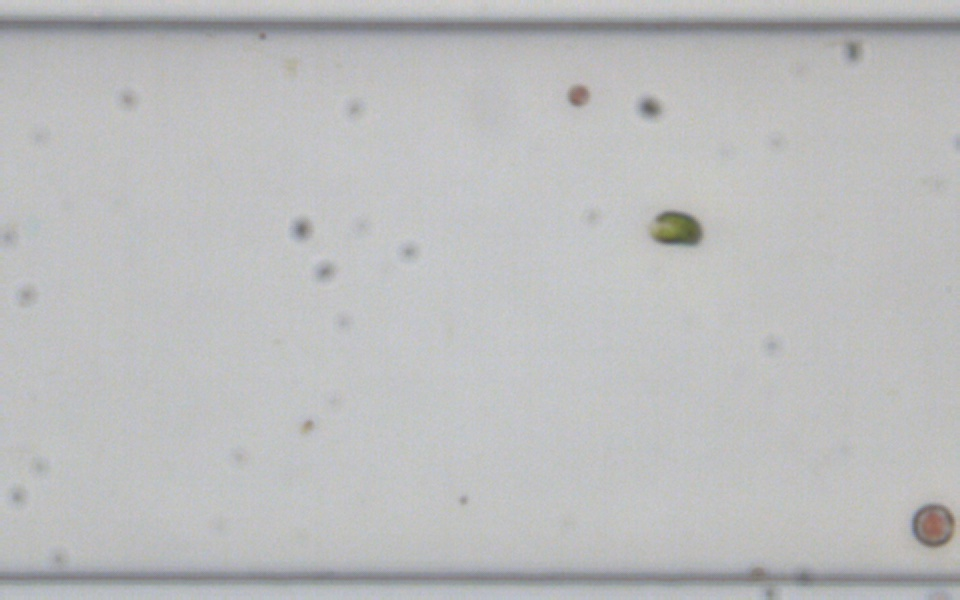Platymonas: (645, 206, 705, 248)
Porphyridium: (908, 500, 957, 549), (566, 82, 589, 106)
